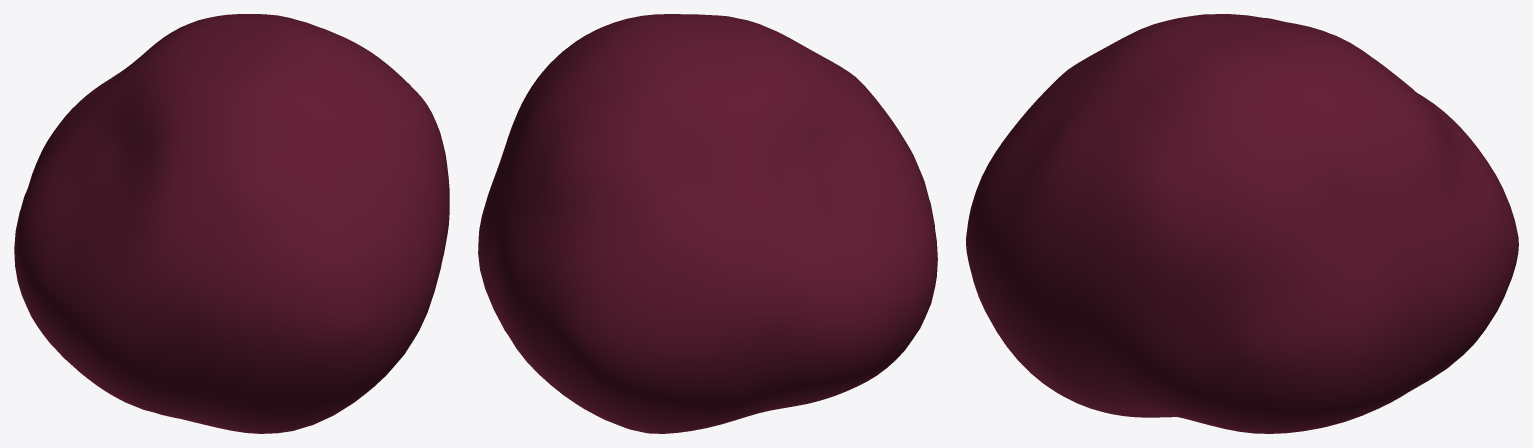
The model's file is pedra grande vermelha.fbx.
The picture shows the model from 3 angles, left to right: view 1: azimuth 30°, elevation 25°; view 2: azimuth 150°, elevation 25°; view 3: azimuth 270°, elevation 25°; orthographic projection. The views are drawn at different scales.
Visible parts, largest first — view 1: rock.001; view 2: rock.001; view 3: rock.001.
Part boxes in pixels (<box>): rock.001: <box>14,14,449,433</box>; rock.001: <box>478,14,937,433</box>; rock.001: <box>966,14,1518,433</box>.
Size of the model in its own units: 426 by 376 by 485.
